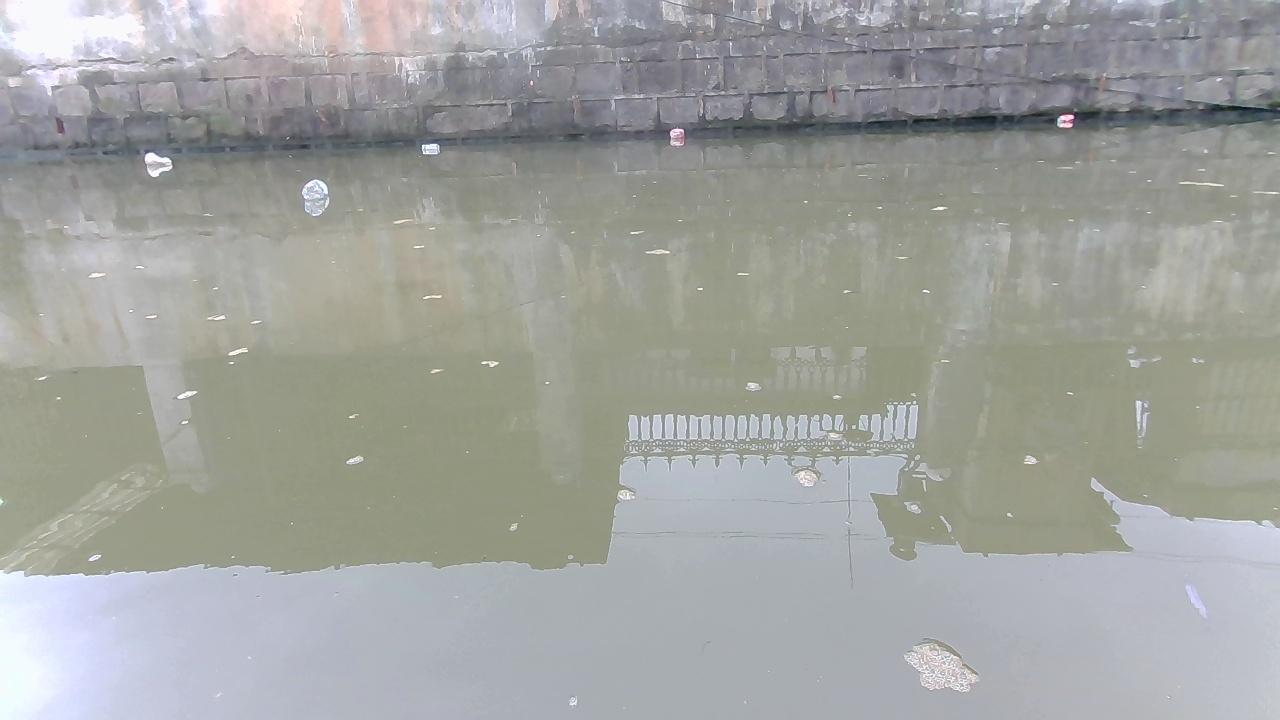bottle: (301, 173, 326, 202), (145, 147, 171, 168), (1055, 111, 1076, 127), (668, 126, 682, 147), (420, 142, 438, 151)
